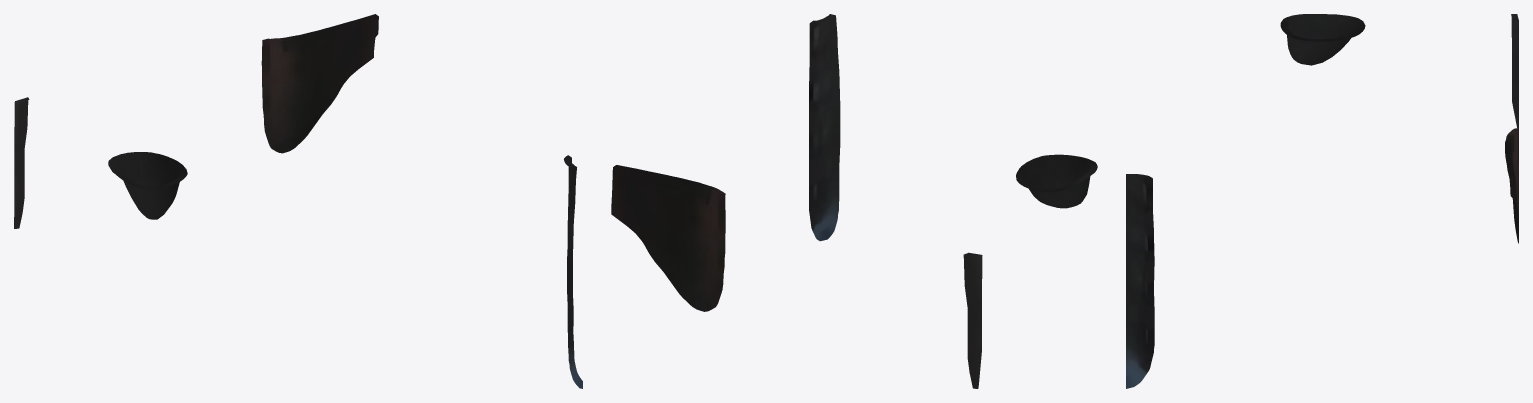
File: z20-167746-405249-h0-yup-uvflip-v3-world.glb
The picture shows the model from 3 angles, left to right: view 1: azimuth 30°, elevation 25°; view 2: azimuth 150°, elevation 25°; view 3: azimuth 270°, elevation 25°; orthographic projection. The views are drawn at different scales.
Bounding box in the file's own units: 30.16 × 17.88 × 30.32.
1 material, 1 textured.
